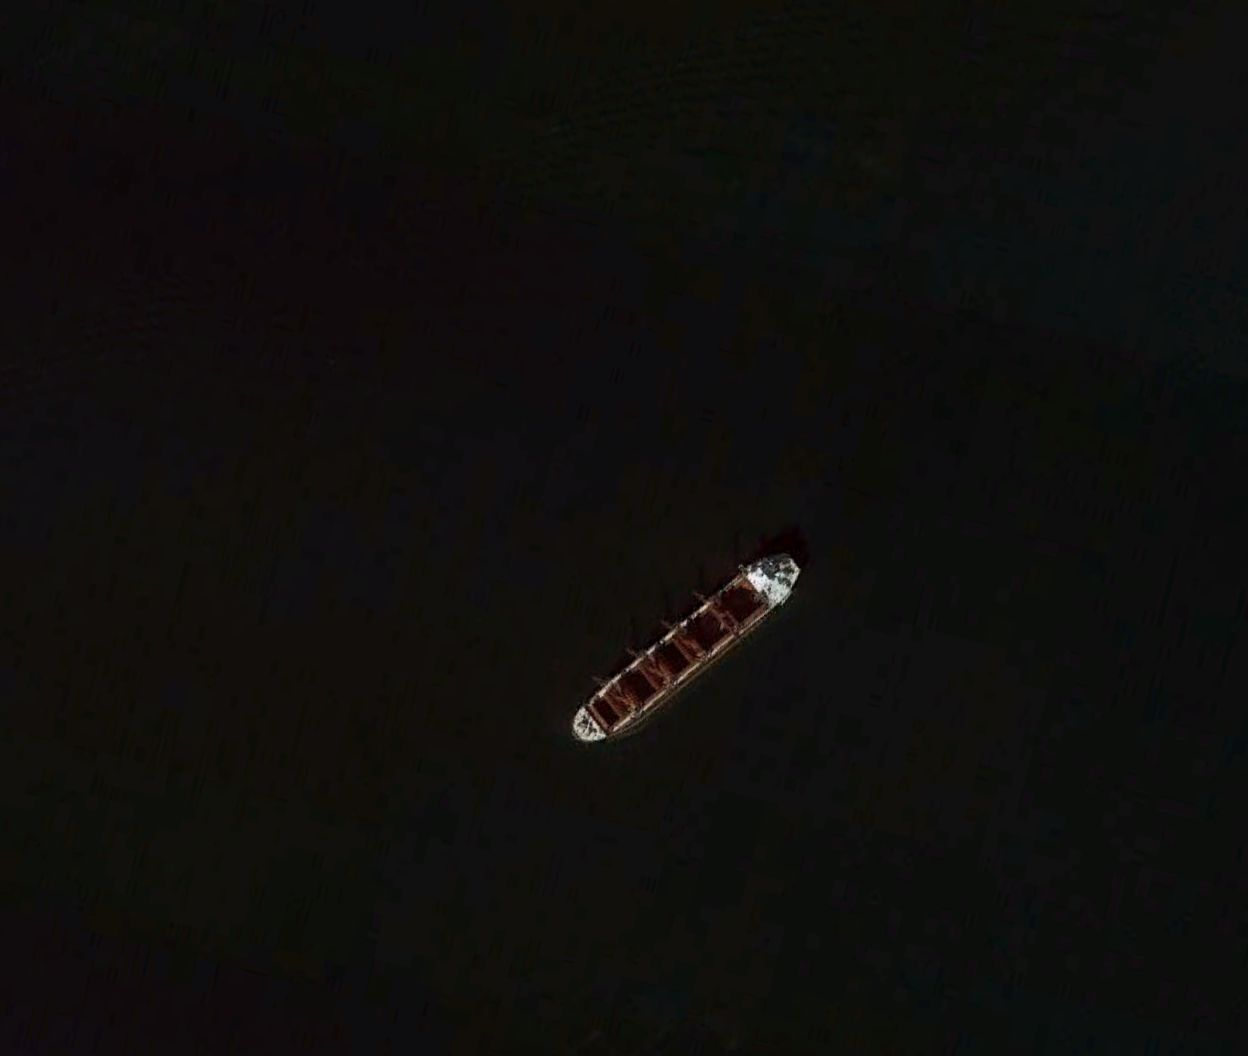boat: (564, 543, 810, 749)
